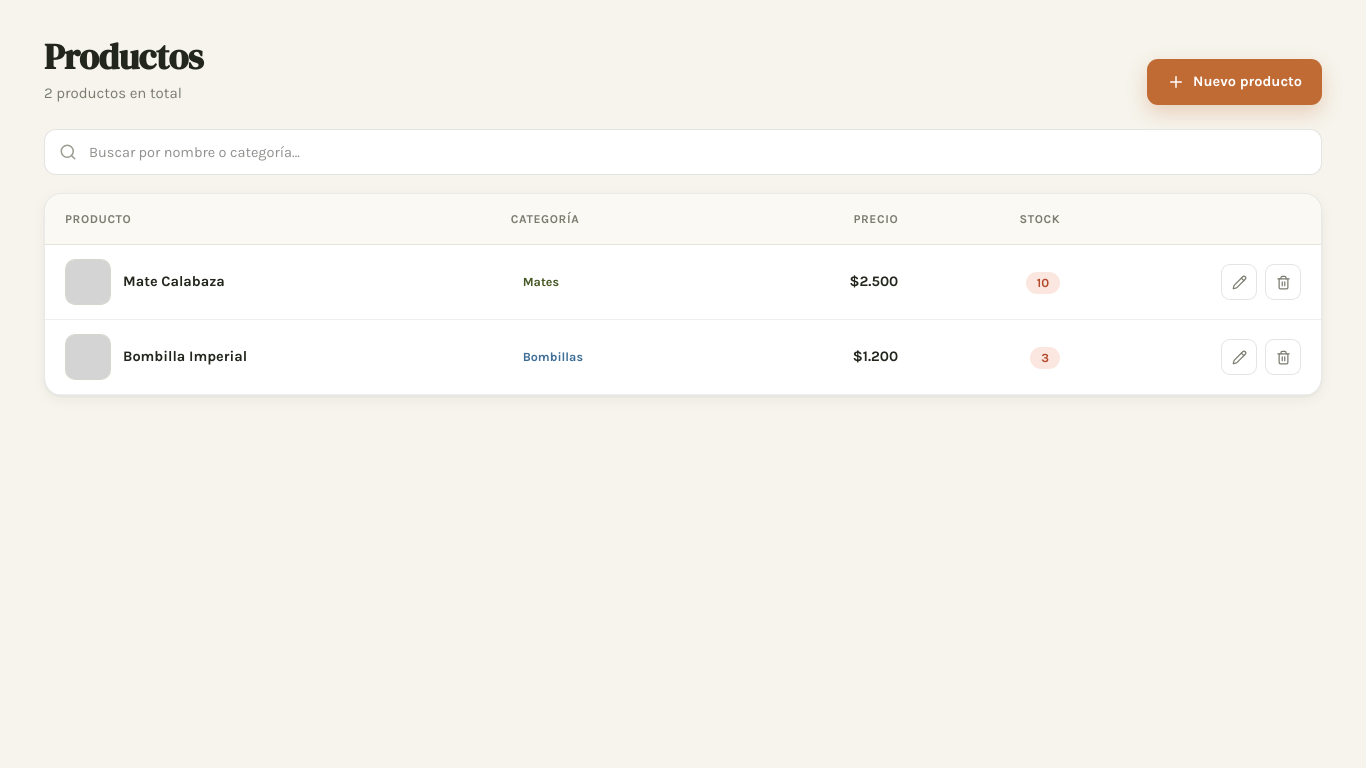
Test: AdminProducts › cancels delete when "Cancelar" is clicked in confirmation dialog
Click the button titled "Eliminar" in the row of "Mate Calabaza". click: click(1283, 282)
box: [1265,264,1301,300]
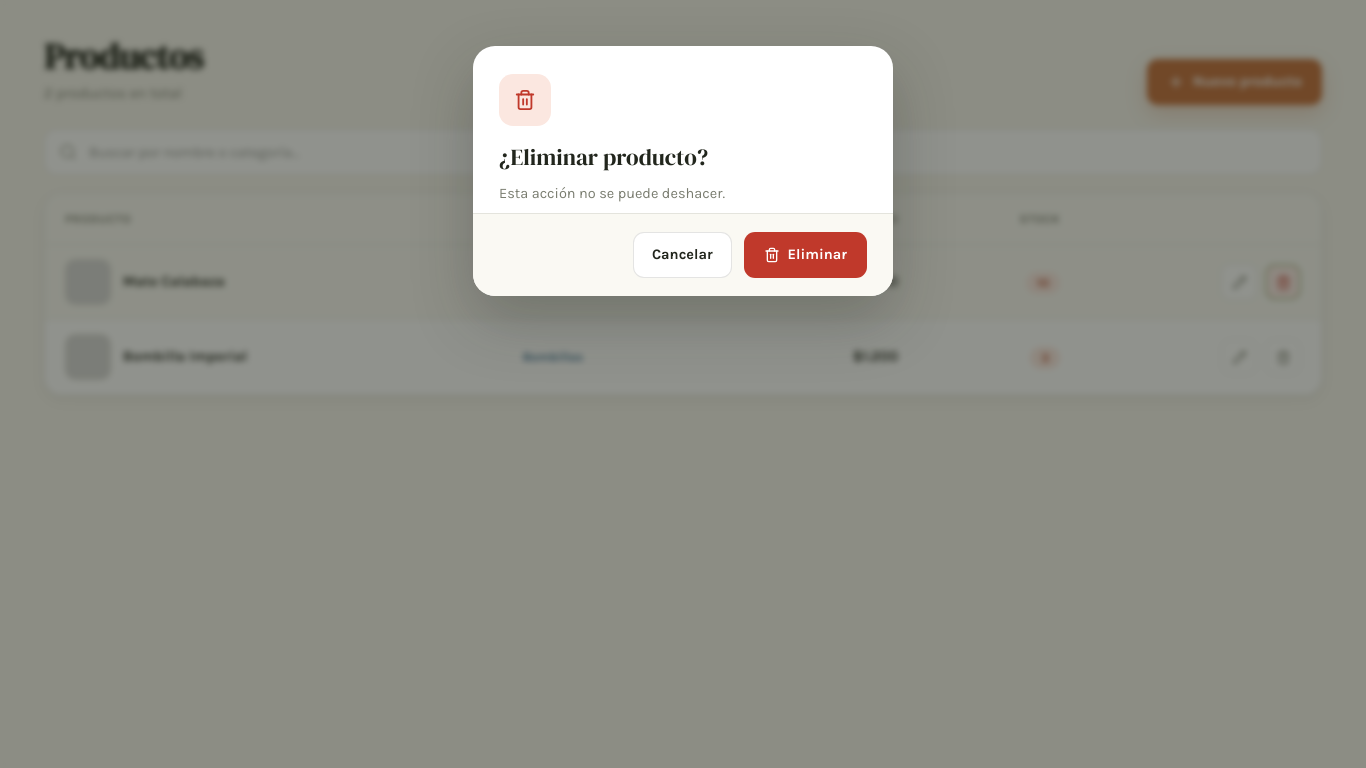
Note: Click cancel in the delete dialog
Click the button "Cancelar". click: click(682, 255)
box: [633,232,732,278]
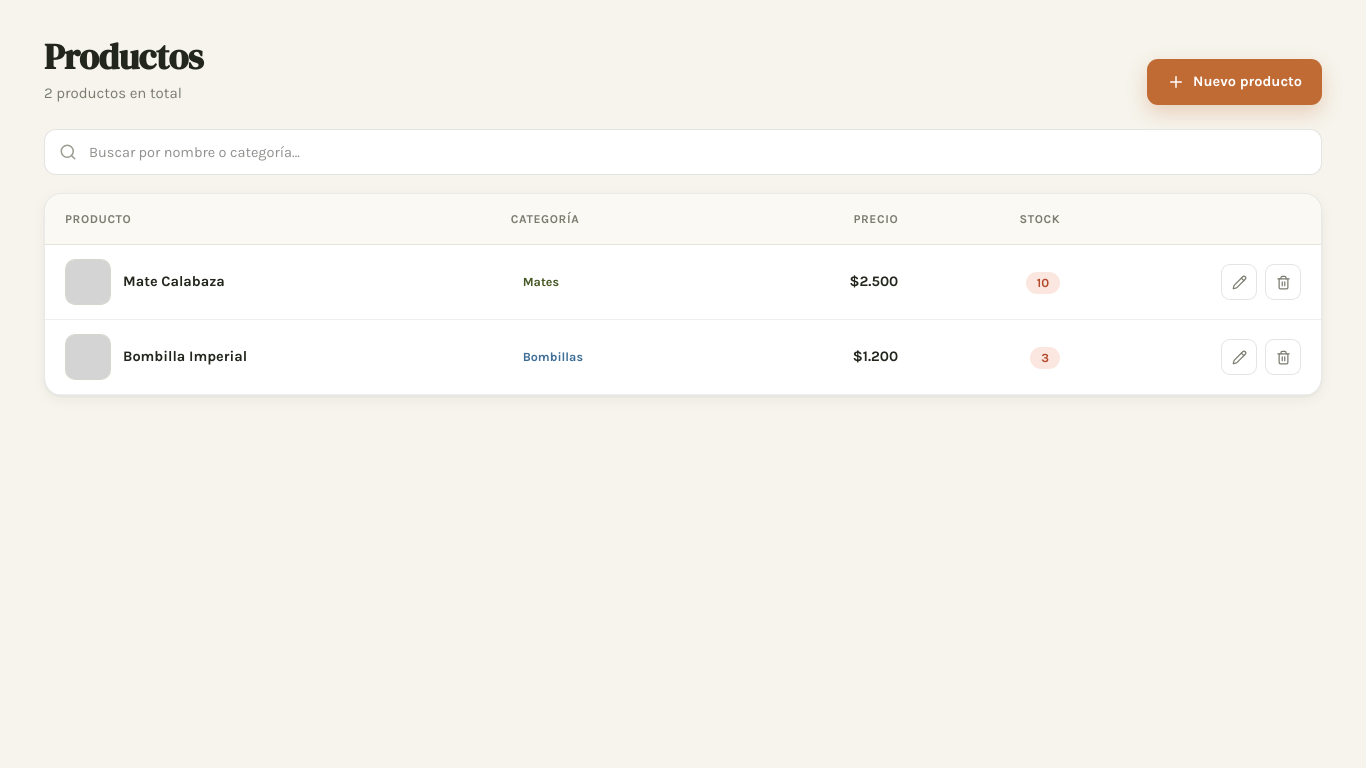
Check: the heading "¿Eliminar producto?" is gone
